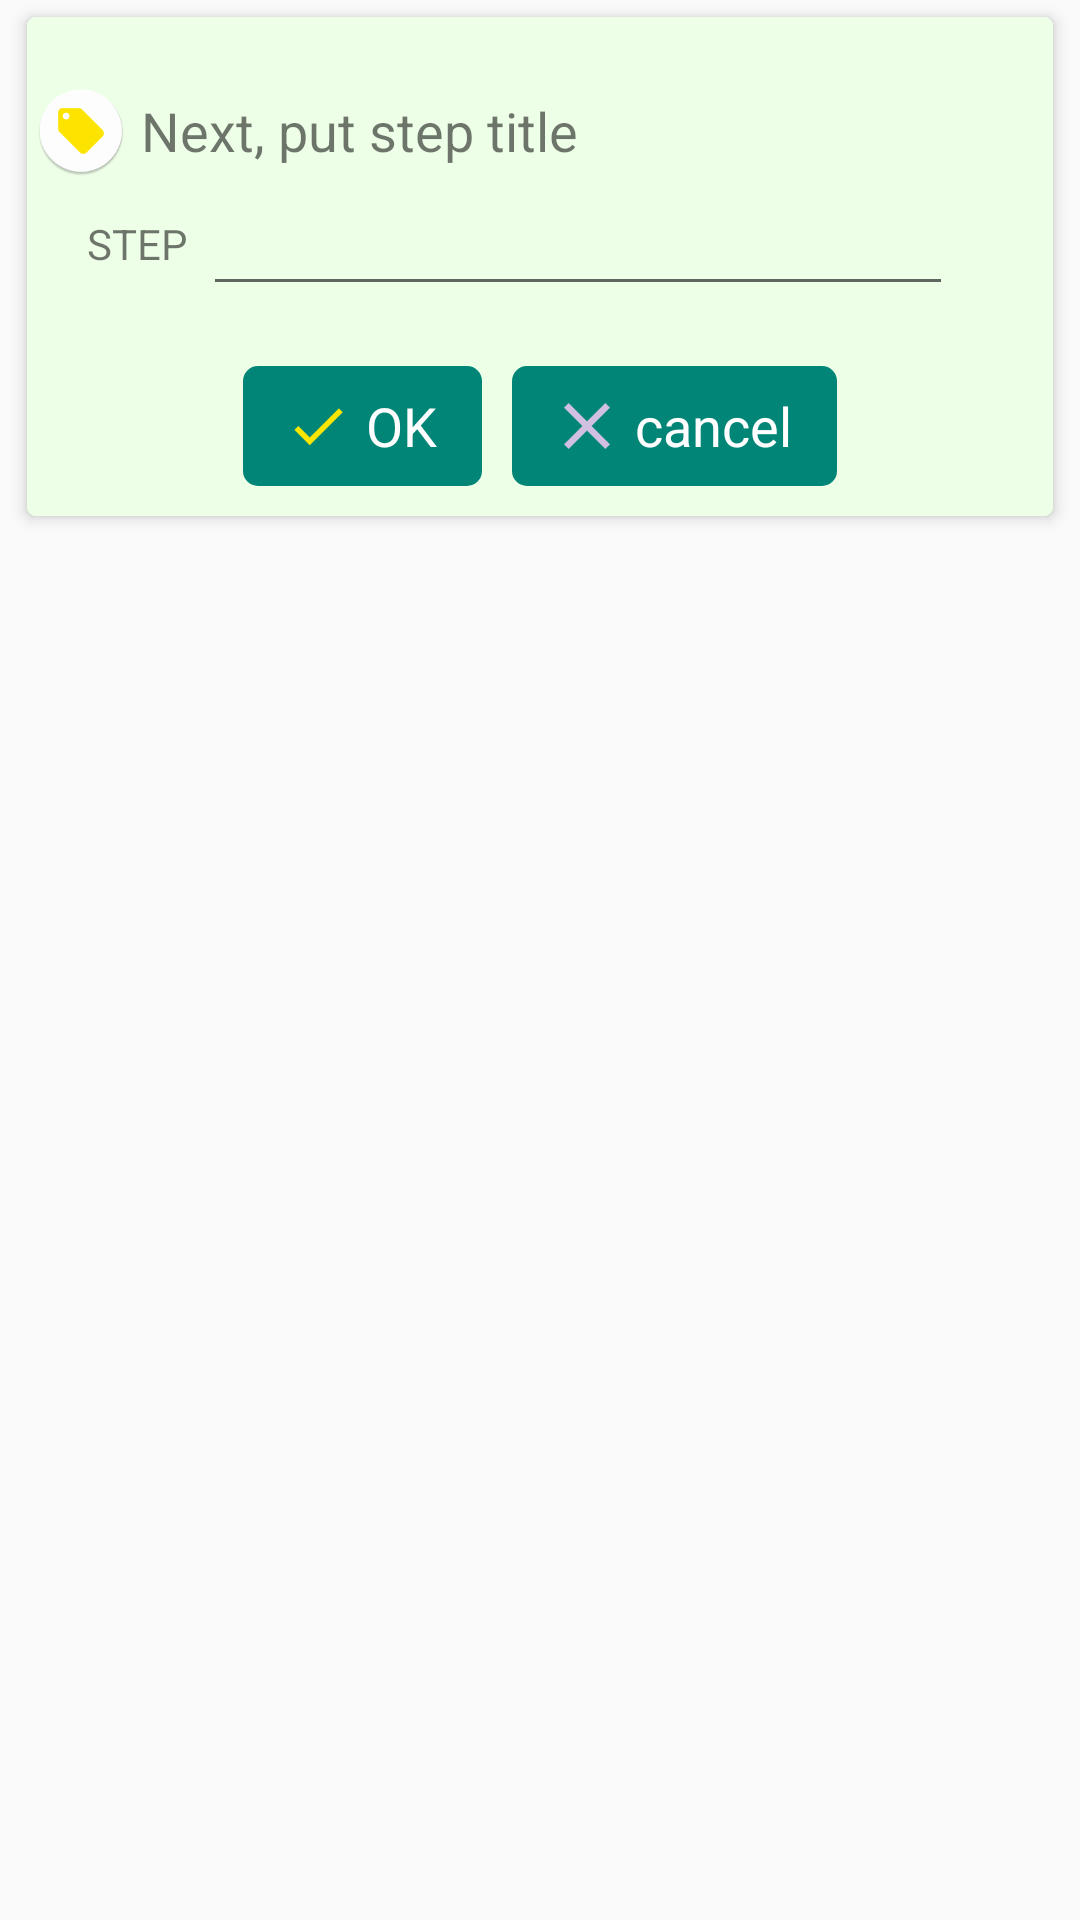

Icons on this 1080x1920 Android screen, each with the point to tap as point (x, y):
check ok: point (318, 427)
